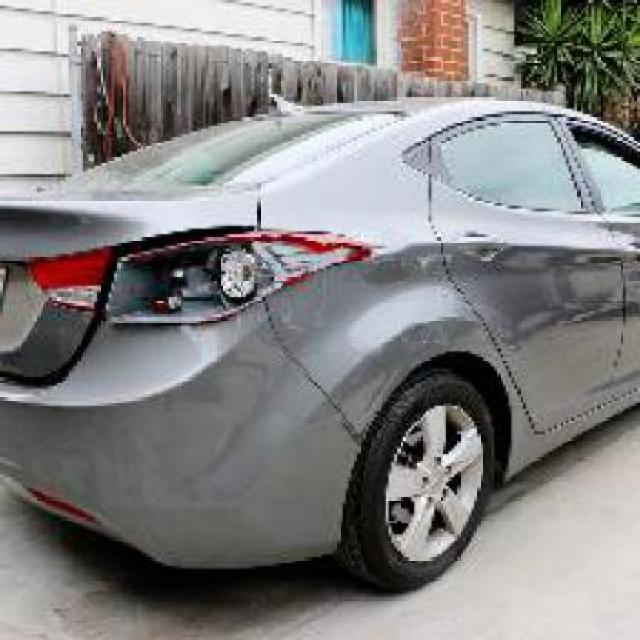damaged-tail-light: (92, 220, 368, 323)
